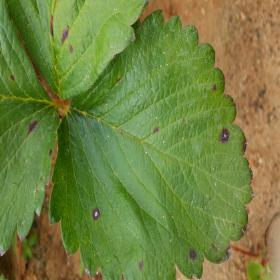Leaf Spot: (49, 9, 255, 279)
